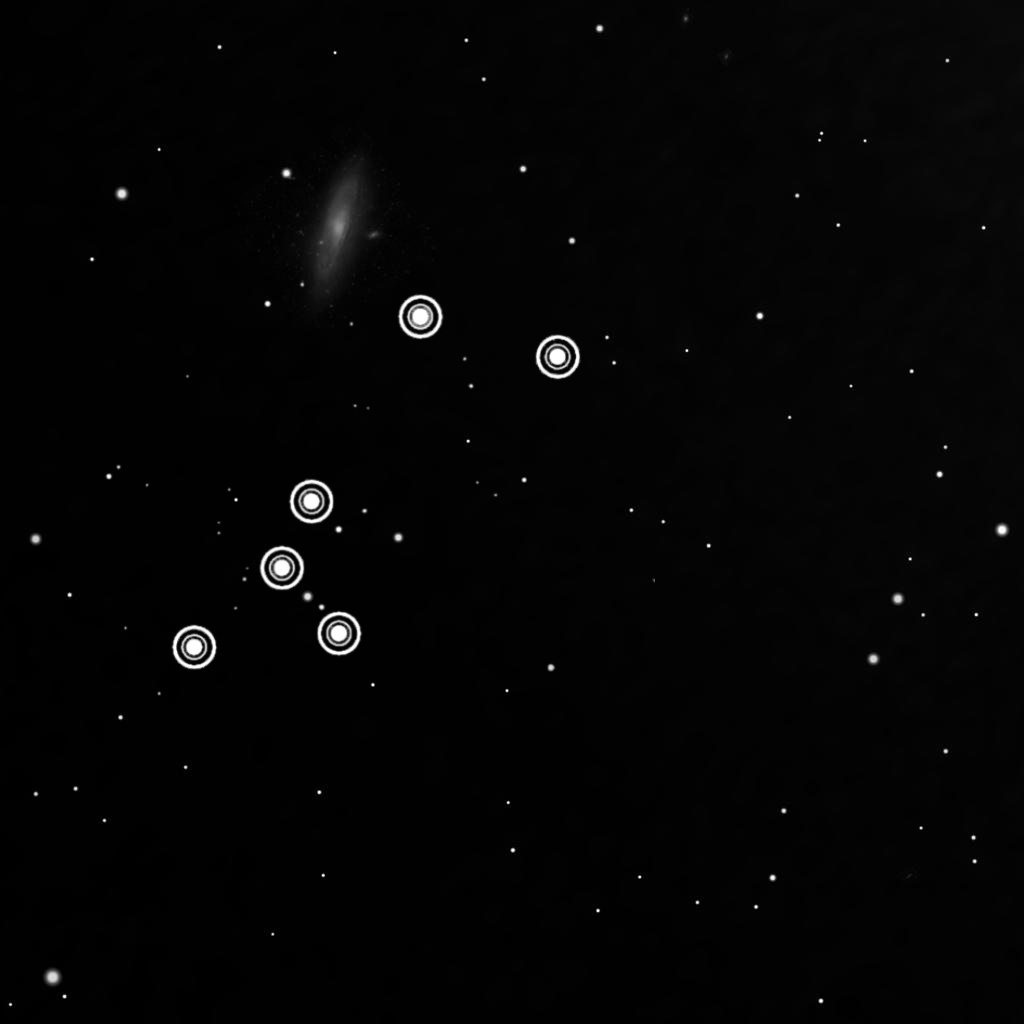canis_major: (160, 279, 596, 683)
